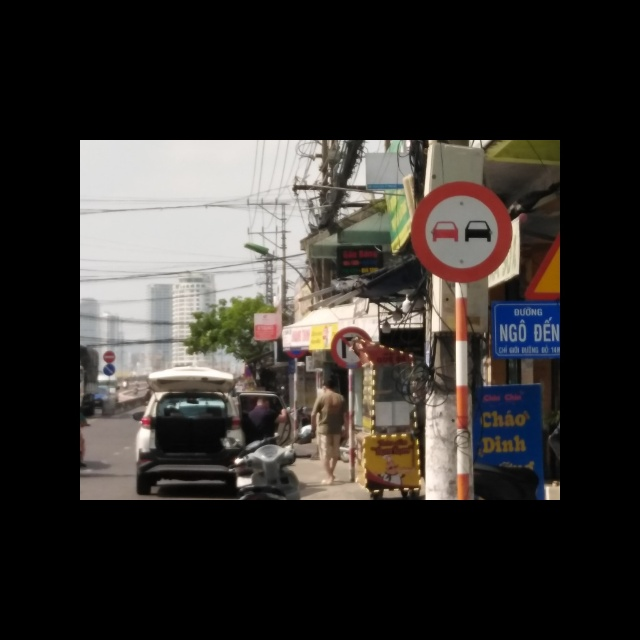Cấm vượt: (409, 180, 512, 281)
